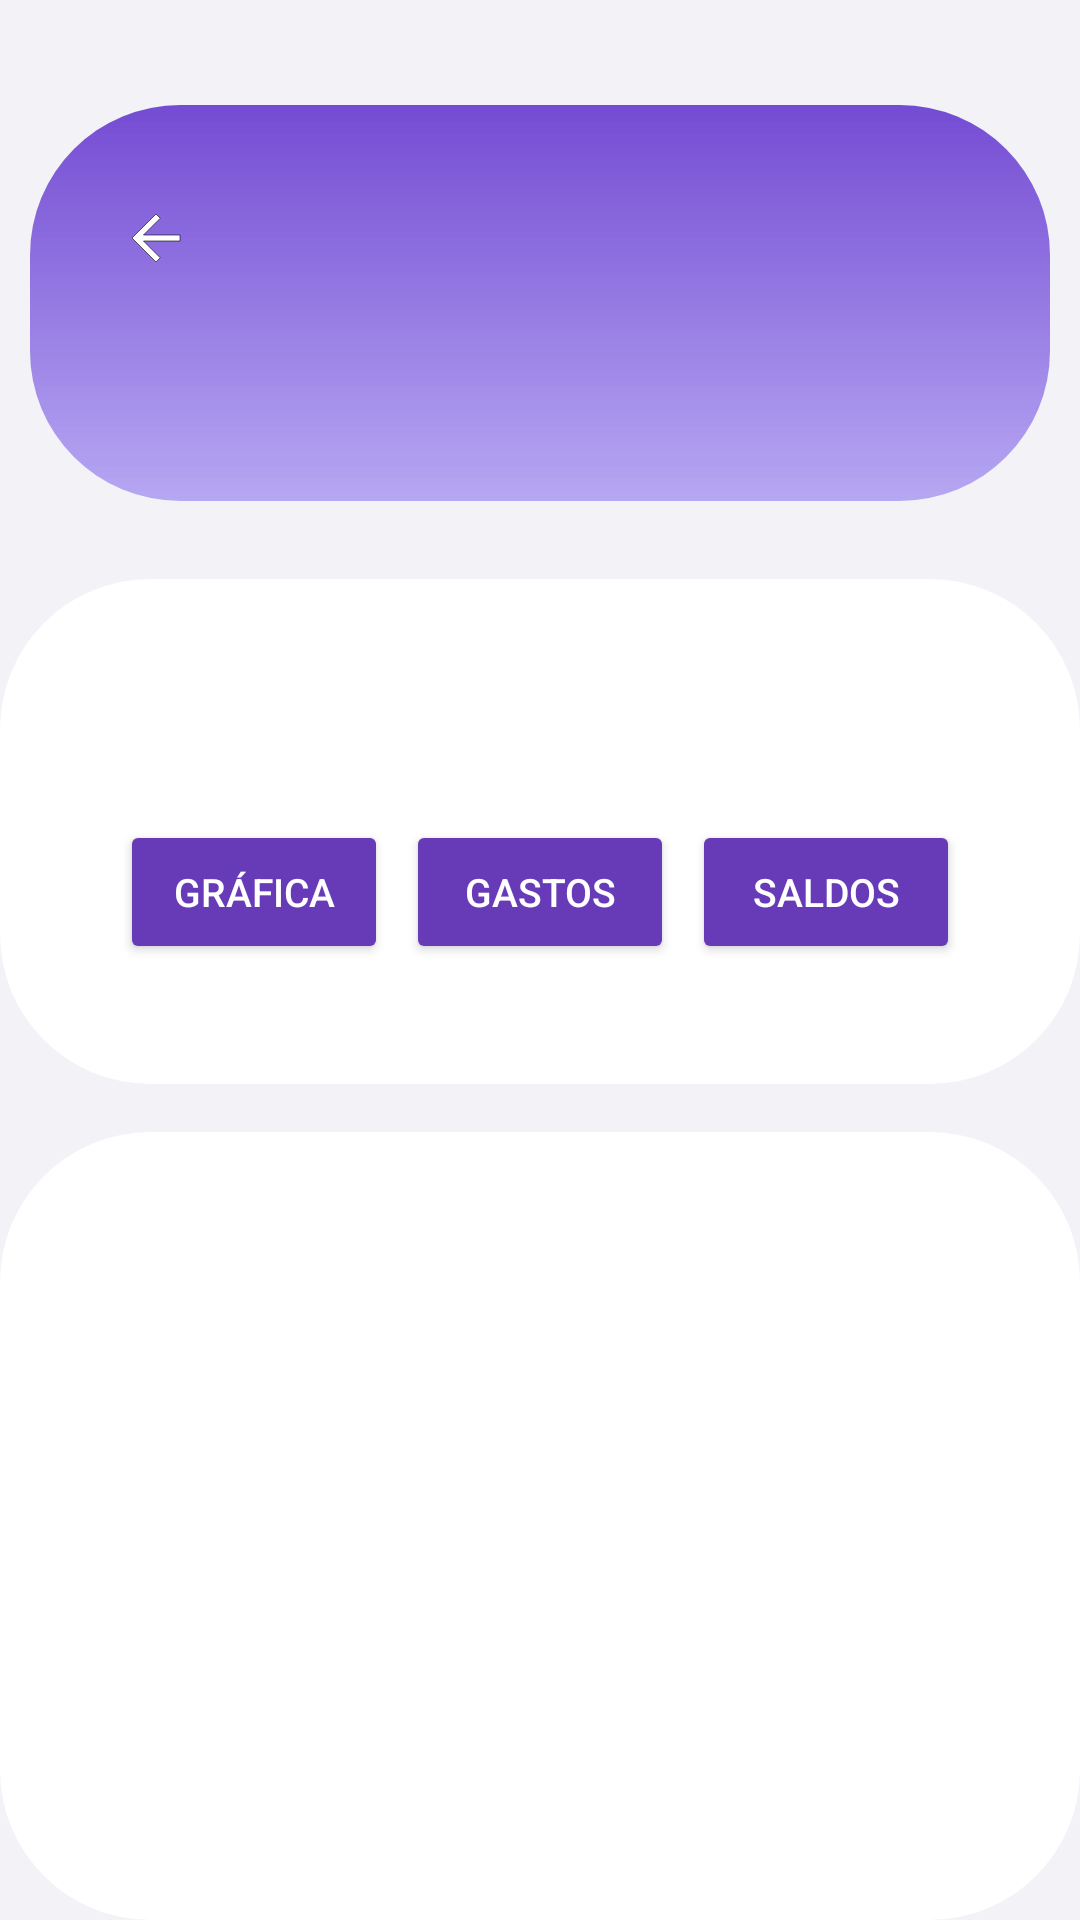

Point at icon controls on the screen. Image size 1080w x 1920h, points as (x=x, y=y).
Volver: (x=156, y=238)
